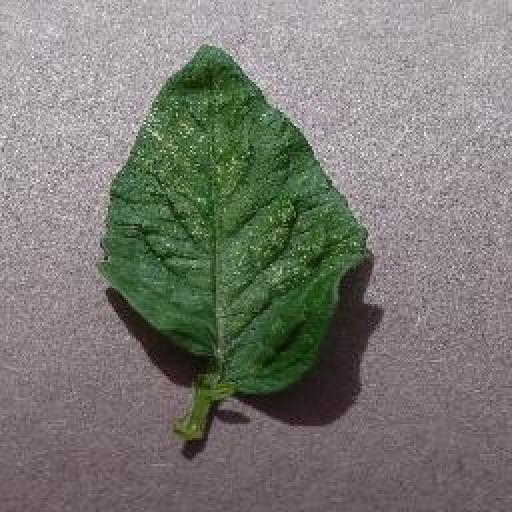disease_tomato: (96, 41, 369, 391)
